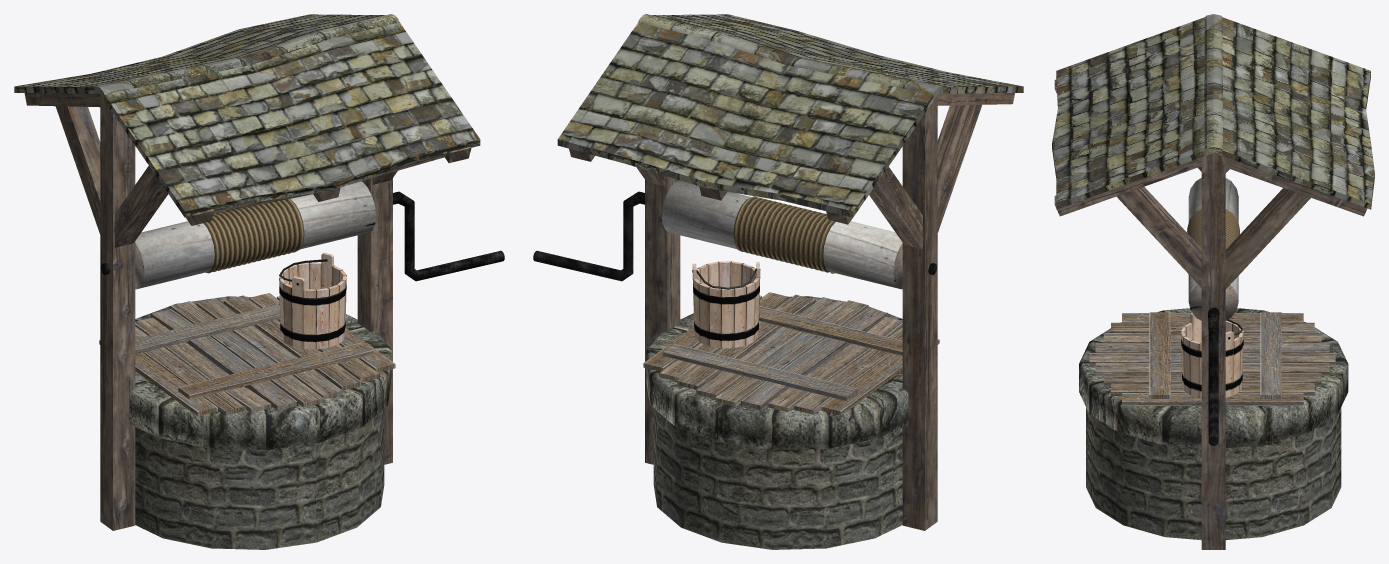
The model's file is Well.fbx.
3 renders of one model, left to right at view 1: azimuth 30°, elevation 25°; view 2: azimuth 150°, elevation 25°; view 3: azimuth 270°, elevation 25°, orthographic. The views are drawn at different scales.
Parts seen in each view (by area): view 1: Plane, Circle, Cube_003, Cube_004, Circle_003, Circle_005, Circle_004, Circle_006; view 2: Plane, Circle, Cube_003, Cube_004, Circle_003, Circle_005, Circle_004, Circle_006; view 3: Plane, Circle, Cube_003, Cube_004, Circle_005, Circle_003, Circle_006, Circle_004.
Part boxes in pixels (bbox=[...]): Plane: bbox=[14, 14, 480, 217]; Circle: bbox=[129, 296, 391, 549]; Cube_003: bbox=[24, 93, 471, 530]; Cube_004: bbox=[99, 293, 395, 416]; Circle_003: bbox=[135, 181, 375, 289]; Circle_005: bbox=[279, 252, 346, 349]; Circle_004: bbox=[203, 199, 304, 273]; Circle_006: bbox=[101, 191, 504, 281]; Plane: bbox=[557, 14, 1023, 217]; Circle: bbox=[646, 296, 908, 549]; Cube_003: bbox=[569, 93, 1014, 530]; Cube_004: bbox=[643, 292, 939, 415]; Circle_003: bbox=[662, 180, 902, 289]; Circle_005: bbox=[692, 261, 760, 348]; Circle_004: bbox=[733, 196, 835, 273]; Circle_006: bbox=[533, 191, 936, 281]; Plane: bbox=[1052, 14, 1374, 209]; Circle: bbox=[1079, 308, 1348, 540]; Cube_003: bbox=[1054, 79, 1367, 549]; Cube_004: bbox=[1089, 312, 1335, 405]; Circle_005: bbox=[1181, 312, 1243, 398]; Circle_003: bbox=[1188, 178, 1238, 320]; Circle_006: bbox=[1208, 307, 1219, 445]; Circle_004: bbox=[1187, 209, 1239, 274].
Size of the model in its own units: 252 by 264 by 190.
